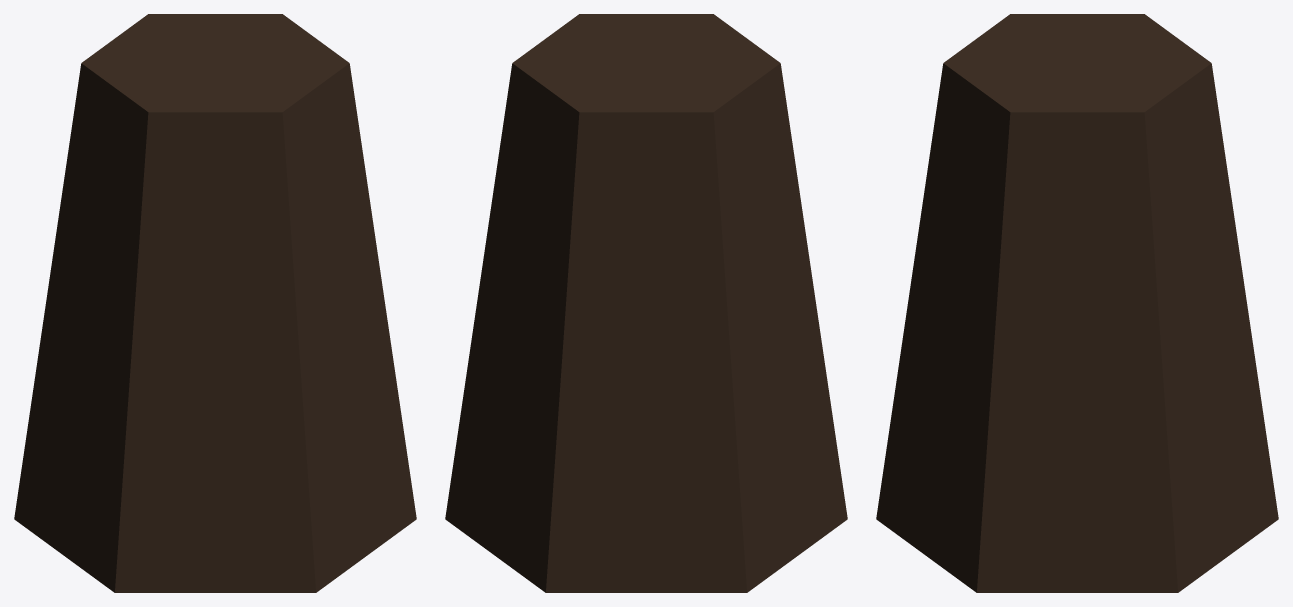
Rendered from stump.glb.
3 renders of one model, left to right at view 1: azimuth 30°, elevation 25°; view 2: azimuth 150°, elevation 25°; view 3: azimuth 270°, elevation 25°, orthographic.
Parts seen in each view (by area): view 1: stump; view 2: stump; view 3: stump.
Part boxes in pixels (x1,y1,x2,y2): stump: [14, 14, 416, 592]; stump: [445, 14, 847, 592]; stump: [876, 14, 1278, 592].
Bounding box in the file's own units: 0.3118 × 0.45 × 0.36.
